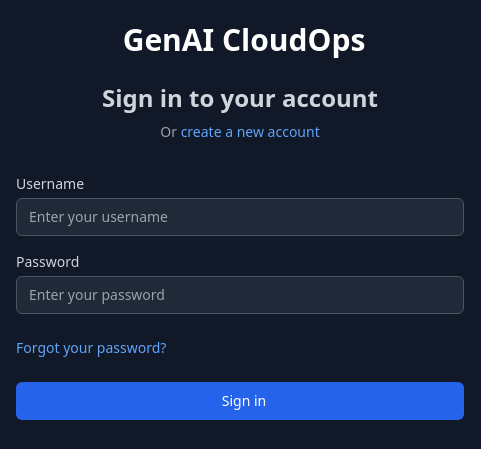
Test: LoginForm - Unit Tests › Form Validation › should show validation error for empty password
Type "testuser" into the field labelled "Username" at (240, 217), box [16, 198, 464, 236]
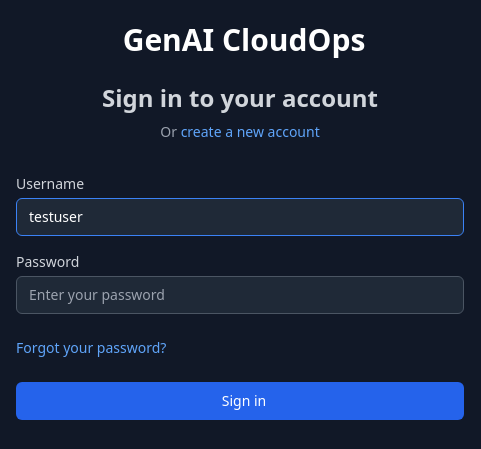
Click the button "Sign in" at (240, 401), box [16, 382, 464, 420]
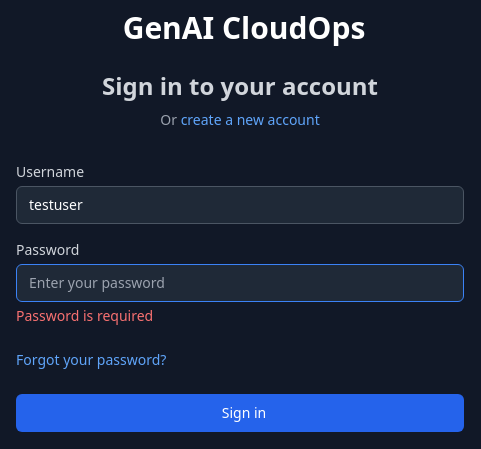
Expected: the text "Password is required" is shown, [16, 306, 153, 325]
